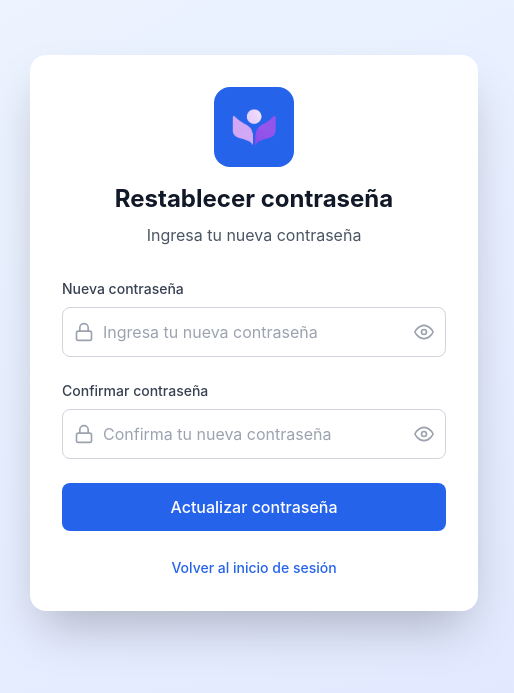
Test: reset rejects mismatched passwords without changing Auth
Type "password1" into the password field labelled "Nueva contraseña" at (254, 332), box left=62, top=307, right=446, bottom=357
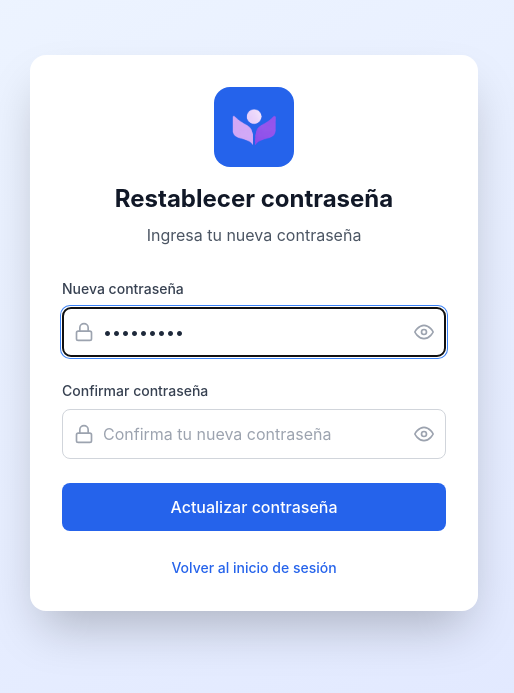
Type "password2" into the password field labelled "Confirmar contraseña" at (254, 434), box left=62, top=409, right=446, bottom=459
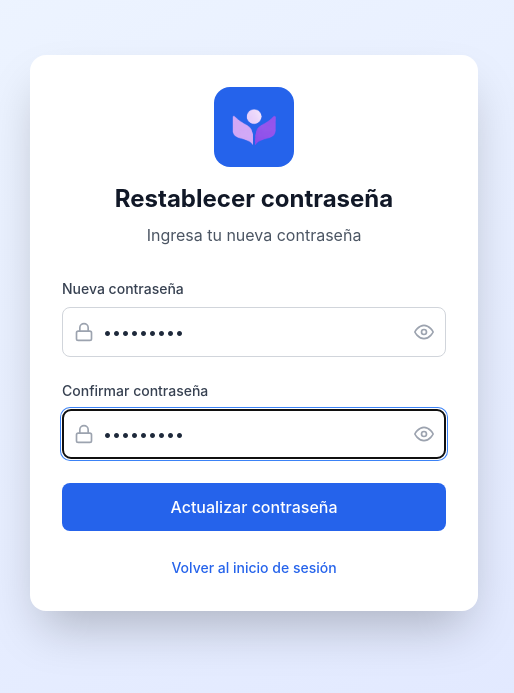
Click the button "Actualizar contraseña" at (254, 507), box left=62, top=483, right=446, bottom=531
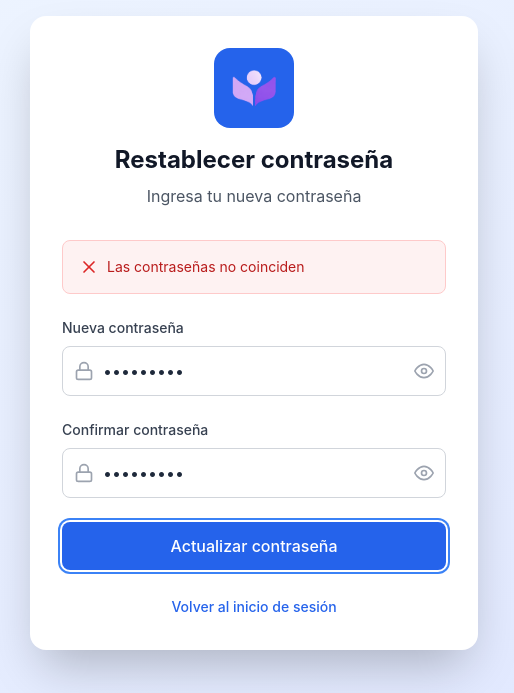
Now the text "Las contraseñas no coinciden" is shown, box left=107, top=257, right=304, bottom=277
